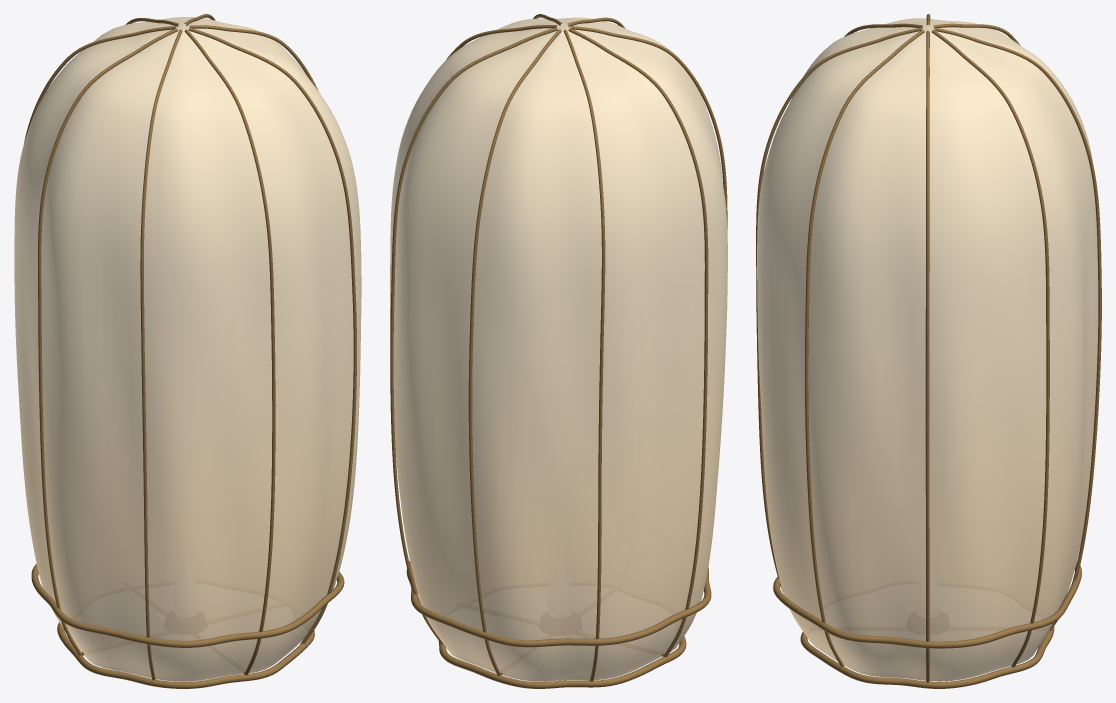
File: paper-lantern.glb
The picture shows the model from 3 angles, left to right: view 1: azimuth 30°, elevation 25°; view 2: azimuth 150°, elevation 25°; view 3: azimuth 270°, elevation 25°; orthographic projection.
Visible parts, largest first — view 1: Continuous folded translucent paper shell, Eight fine bamboo ribs, open double rim and crossed brace; view 2: Continuous folded translucent paper shell, Eight fine bamboo ribs, open double rim and crossed brace; view 3: Continuous folded translucent paper shell, Eight fine bamboo ribs, open double rim and crossed brace.
Part boxes in pixels (x1=…): Continuous folded translucent paper shell: x1=14, y1=17, x2=361, y2=681; Eight fine bamboo ribs, open double rim and crossed brace: x1=24, y1=14, x2=356, y2=688; Continuous folded translucent paper shell: x1=390, y1=17, x2=727, y2=681; Eight fine bamboo ribs, open double rim and crossed brace: x1=390, y1=14, x2=727, y2=688; Continuous folded translucent paper shell: x1=757, y1=18, x2=1098, y2=681; Eight fine bamboo ribs, open double rim and crossed brace: x1=756, y1=14, x2=1101, y2=688.
Bounding box in the file's own units: 0.9731 × 1.89 × 0.9728.
